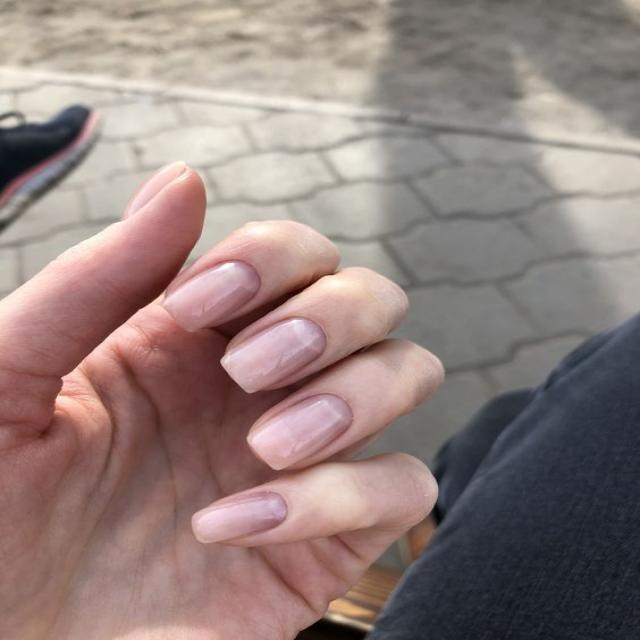Fingernail: (247, 394, 353, 471), (222, 317, 327, 393), (163, 260, 261, 332), (192, 492, 287, 543), (124, 162, 185, 218)
